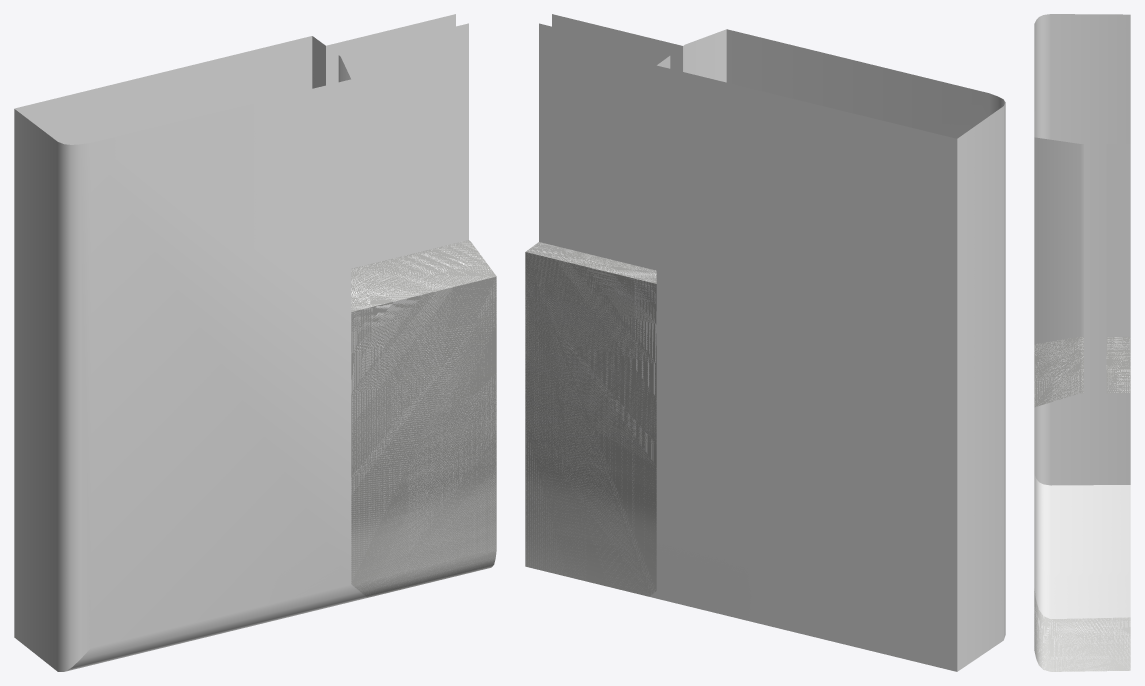
File: original-29.obj
3 views of the same model, side by side, from view 1: azimuth 30°, elevation 25°; view 2: azimuth 150°, elevation 25°; view 3: azimuth 270°, elevation 25° (orthographic). The views are drawn at different scales.
Parts seen in each view (by area): view 1: LT_21_BL1/LT_21_BL/mesh23/mesh23-geometry#mesh23-geometry; view 2: LT_21_BL1/LT_21_BL/mesh23/mesh23-geometry#mesh23-geometry; view 3: LT_21_BL1/LT_21_BL/mesh23/mesh23-geometry#mesh23-geometry.
Part boxes in pixels (box(x1,y1,x2,y2)): LT_21_BL1/LT_21_BL/mesh23/mesh23-geometry#mesh23-geometry: box(14, 14, 496, 671); LT_21_BL1/LT_21_BL/mesh23/mesh23-geometry#mesh23-geometry: box(525, 14, 1005, 671); LT_21_BL1/LT_21_BL/mesh23/mesh23-geometry#mesh23-geometry: box(1034, 14, 1130, 671).
Size of the model in its own units: 0.124 by 0.1462 by 0.0271.
